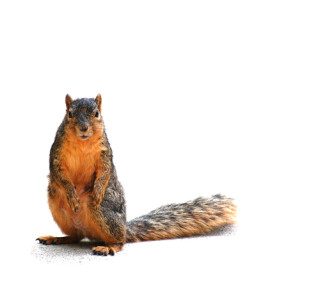Ardilla: (44, 90, 251, 256)
